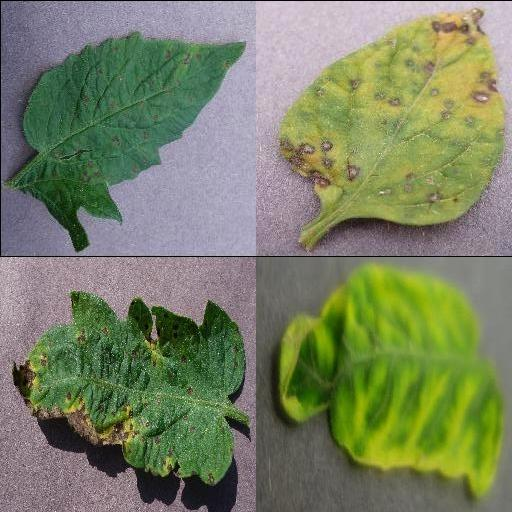Septoria: (22, 34, 248, 252), (278, 9, 506, 225), (14, 290, 246, 486)
Yellow Leaf Curl Virus: (278, 264, 508, 502)
